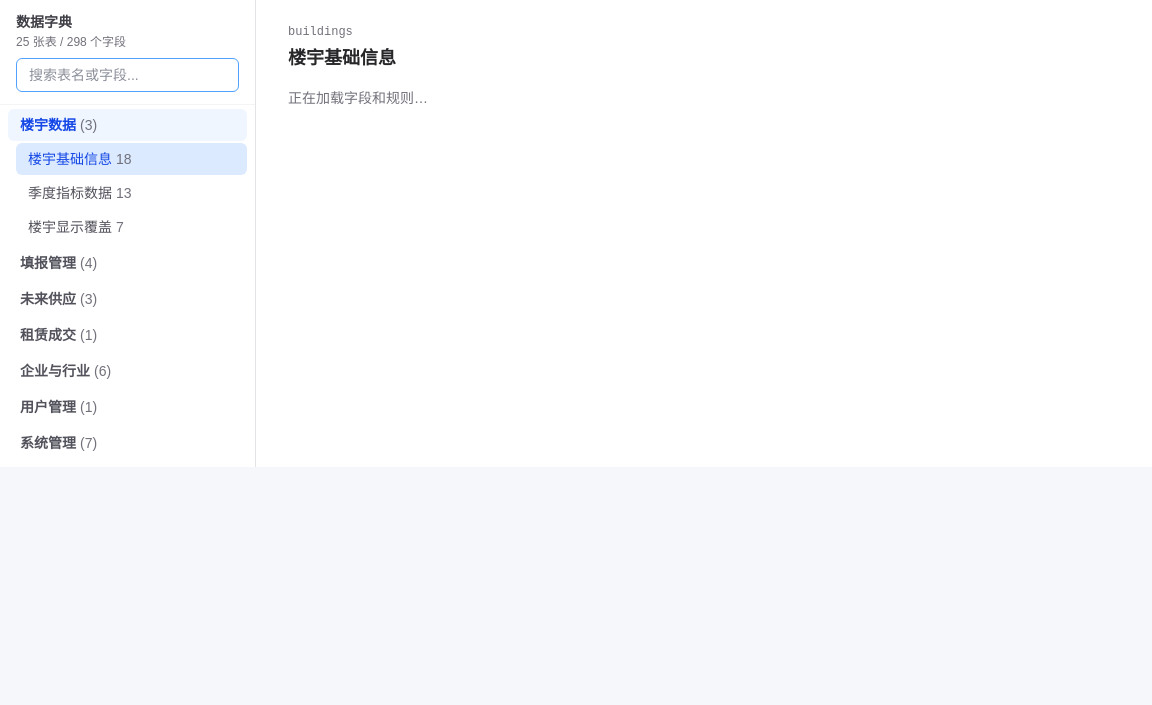
Test case: keeps schema search and its caret while a corrected table name becomes selectable
Type "buildnigs" into the field with placeholder "搜索表名或字段..." at (128, 75), box left=16, top=58, right=239, bottom=92
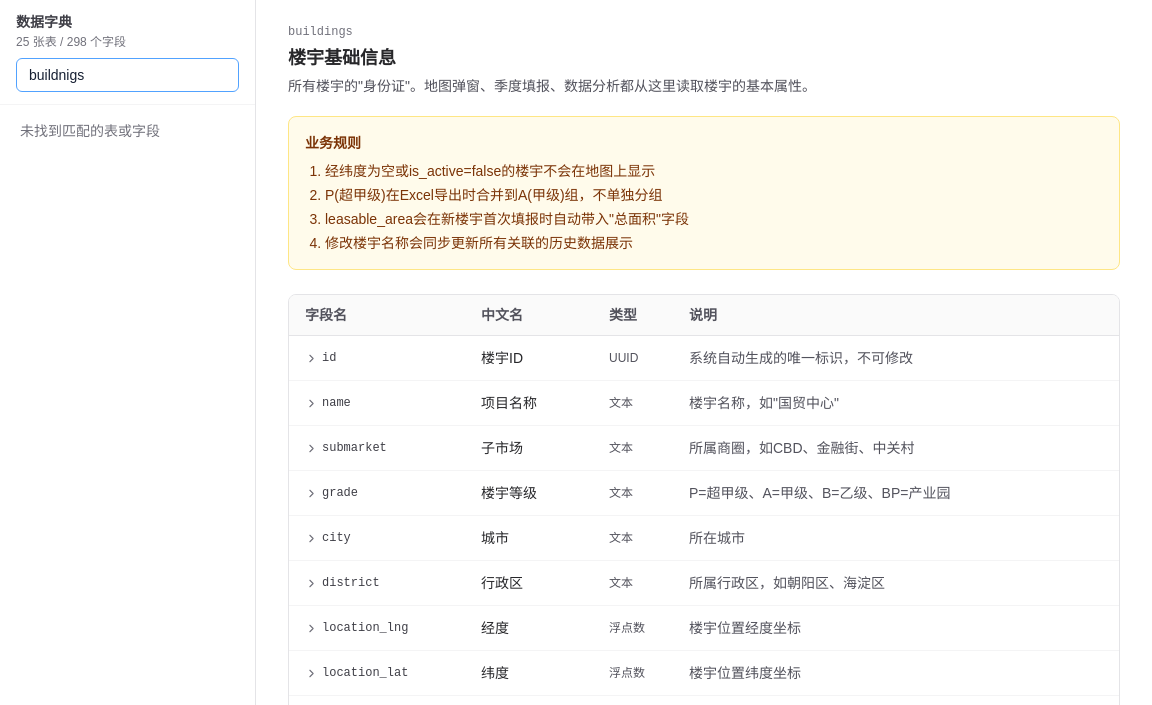
Check: the text "未找到匹配的表或字段" is shown, box left=20, top=123, right=160, bottom=139
Replace the text in the field with placeholder "搜索表名或字段..." with "buildings" at (128, 75), box left=16, top=58, right=239, bottom=92
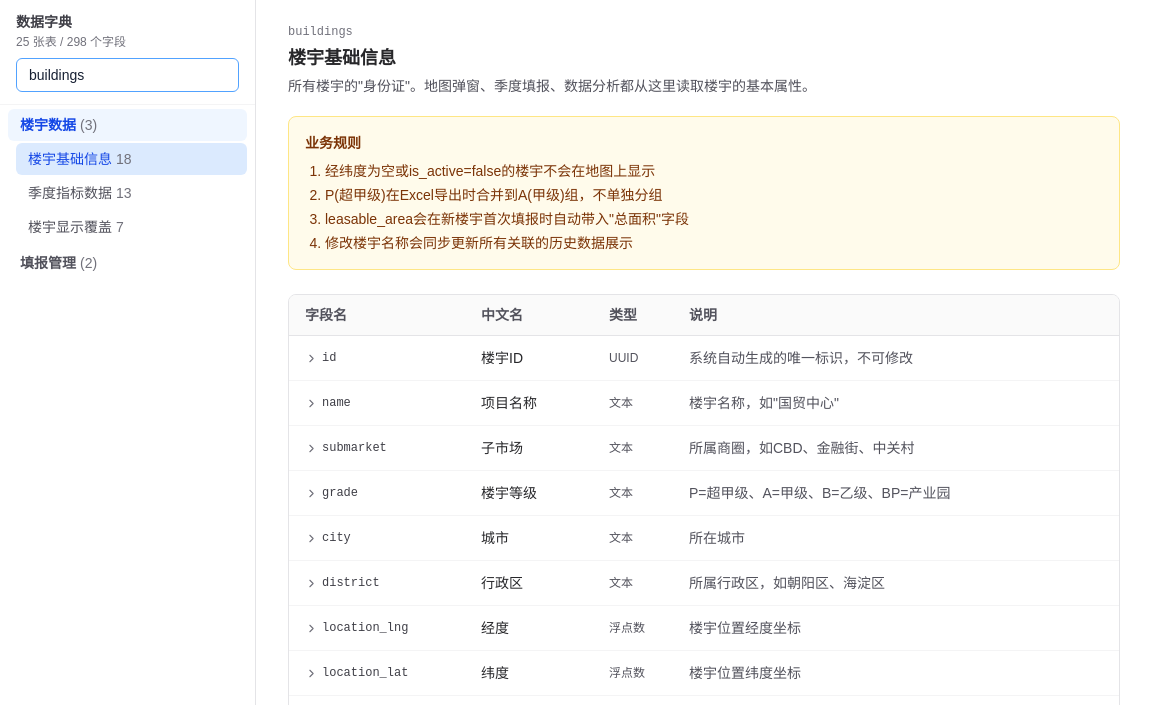
Check: the button "楼宇基础信息18" is shown, box left=16, top=143, right=247, bottom=175
